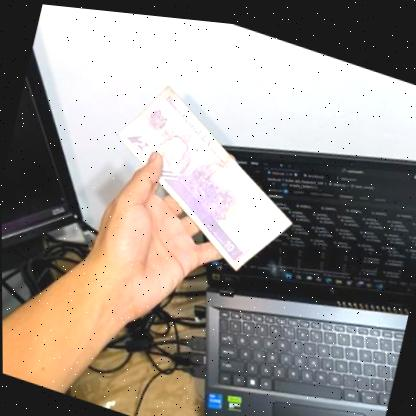ten-back-vef: (94, 67, 315, 283)
